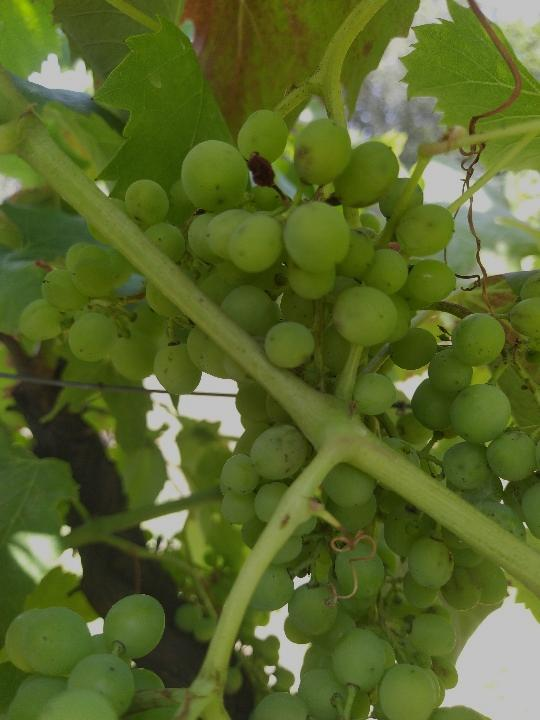grape: (11, 104, 522, 700)
